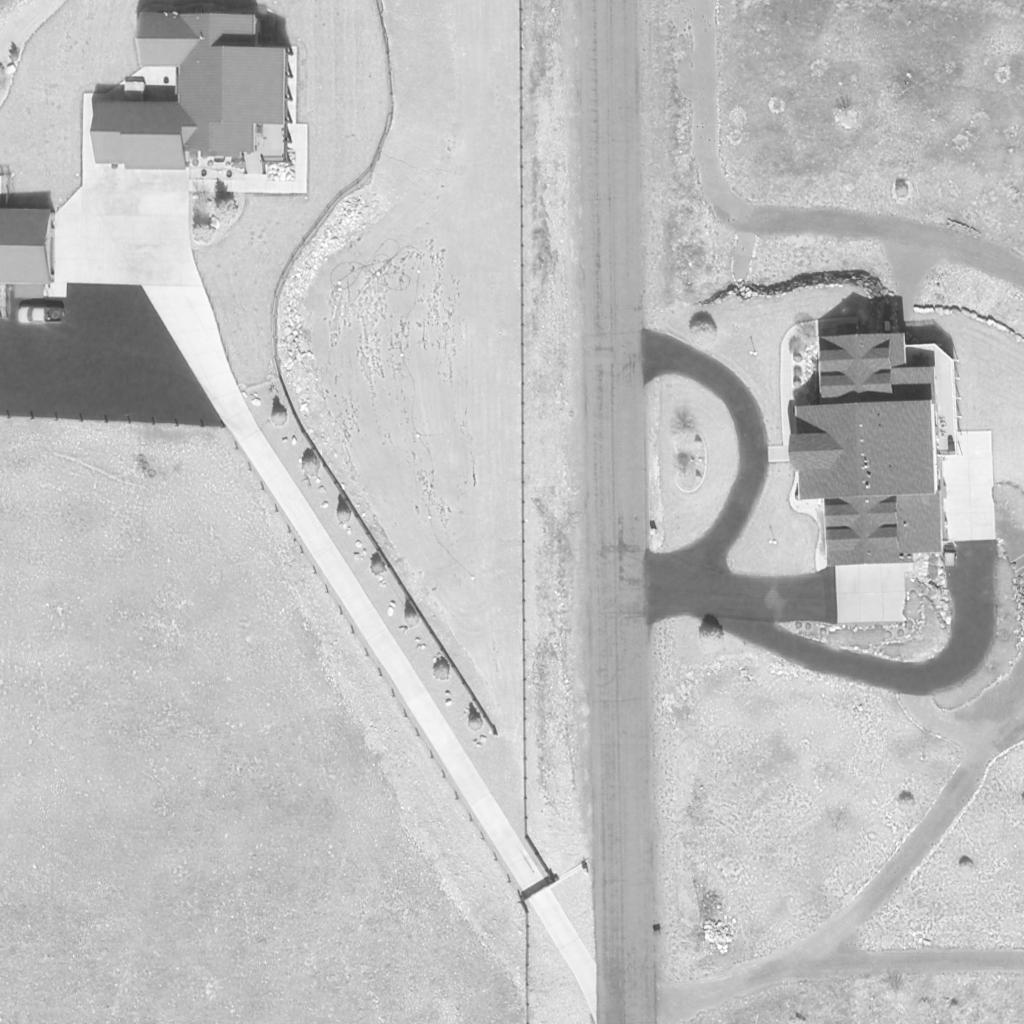vehicle: (20, 304, 70, 326)
